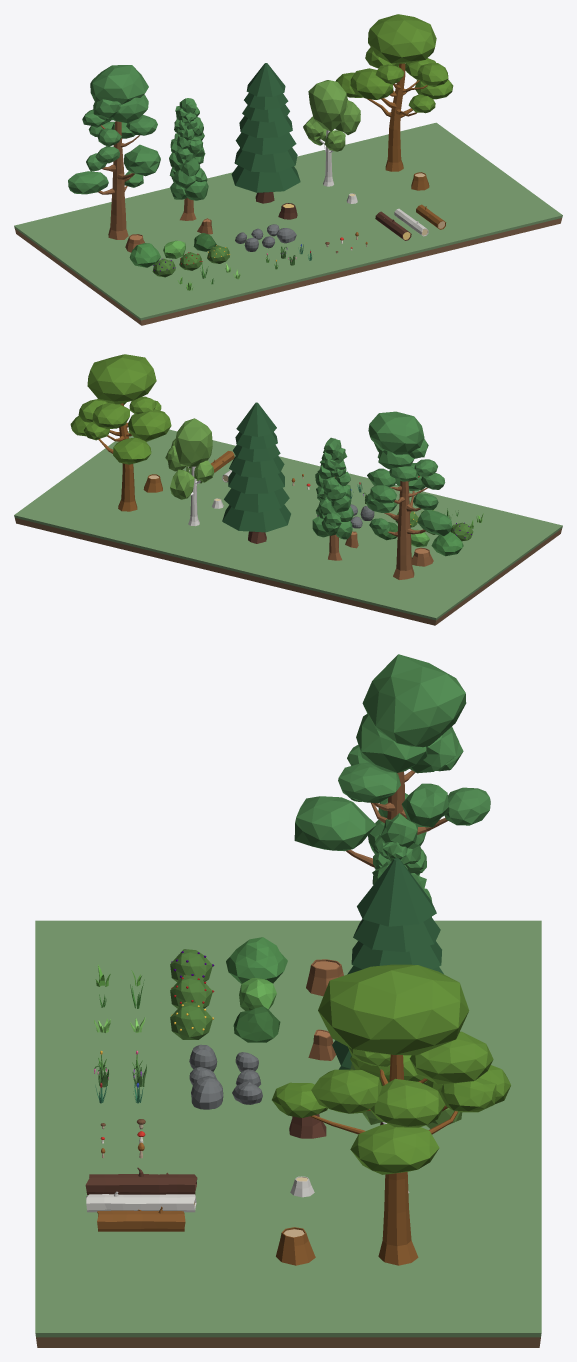
The picture shows the model from 3 angles, top to bottom: view 1: azimuth 30°, elevation 25°; view 2: azimuth 150°, elevation 25°; view 3: azimuth 270°, elevation 25°; orthographic projection. The views are drawn at different scales.
Visible parts, largest first — view 1: Terrain_0, Hojas1_16, Hojas5_20, Hojas3_9, Hojas2_12, Hojas4_6, Tronco1_14, Tronco5_18, bush1_29, Ramas5_19, Cylinder_1; view 2: Terrain_0, Hojas5_20, Hojas1_16, Hojas3_9, Hojas2_12, Hojas4_6, Tronco1_14, Tronco5_18, bush1_29, Ramas1_15, Tronco4_4; view 3: Terrain_0, Hojas5_20, Hojas1_16, Hojas3_9, Tronco5_18, Hojas2_12, Cylinder_1, bush1_29, Cylinder.001_2, Cylinder.002_3, bush3_31, busfF3_28 (+6 smaller).
Boxes of the visible parts, x1,y1,x2,y2 form: Terrain_0: (14, 122, 562, 325); Hojas1_16: (68, 65, 160, 194); Hojas5_20: (335, 14, 453, 113); Hojas3_9: (231, 63, 300, 192); Hojas2_12: (169, 98, 208, 200); Hojas4_6: (303, 80, 360, 151); Tronco1_14: (108, 121, 128, 239); Tronco5_18: (385, 63, 405, 171); bush1_29: (129, 243, 160, 267); Ramas5_19: (367, 80, 427, 117); Cylinder_1: (375, 211, 411, 240); Terrain_0: (14, 429, 562, 625); Hojas5_20: (70, 354, 171, 464); Hojas1_16: (365, 411, 452, 536); Hojas3_9: (222, 402, 290, 532); Hojas2_12: (312, 437, 353, 539); Hojas4_6: (165, 418, 214, 499); Tronco1_14: (393, 480, 414, 579); Tronco5_18: (118, 403, 137, 511); bush1_29: (431, 532, 463, 556); Ramas1_15: (384, 476, 427, 536); Tronco4_4: (188, 466, 199, 526); Terrain_0: (35, 920, 541, 1347); Hojas5_20: (272, 964, 510, 1174); Hojas1_16: (294, 654, 490, 916); Hojas3_9: (332, 858, 443, 1069); Tronco5_18: (378, 1054, 418, 1265); Hojas2_12: (372, 813, 431, 901); Cylinder_1: (85, 1167, 197, 1194); bush1_29: (226, 937, 287, 983); Cylinder.001_2: (86, 1191, 196, 1212); Cylinder.002_3: (97, 1206, 185, 1231); bush3_31: (233, 1006, 280, 1042); busfF3_28: (170, 1002, 214, 1039).
Size of the model in its own units: 58.34 by 22.42 by 30.27.
